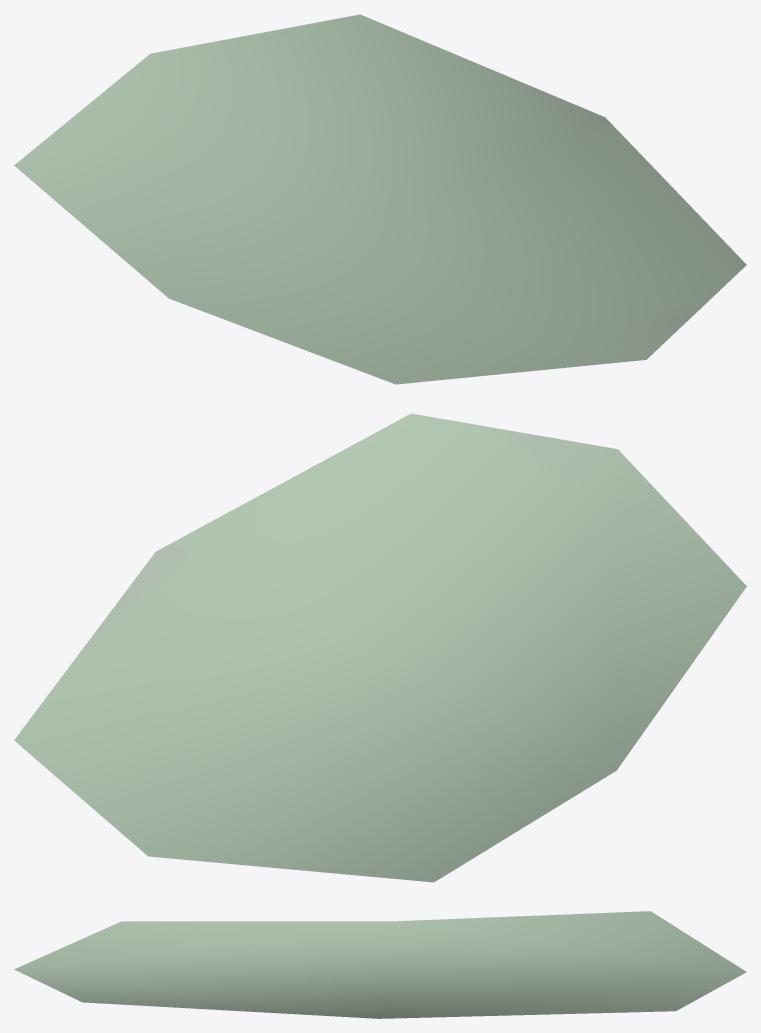
Rendered from TROLLHOLE02_HOLECAP82.fbx.
3 renders of one model, top to bottom at view 1: azimuth 30°, elevation 25°; view 2: azimuth 150°, elevation 25°; view 3: azimuth 270°, elevation 25°, orthographic. The views are drawn at different scales.
Visible parts, largest first — view 1: TROLLHOLE02_HOLECAP82; view 2: TROLLHOLE02_HOLECAP82; view 3: TROLLHOLE02_HOLECAP82.
Boxes of the visible parts, left/top/right/bottom form: TROLLHOLE02_HOLECAP82: left=14, top=14, right=746, bottom=384; TROLLHOLE02_HOLECAP82: left=14, top=413, right=746, bottom=882; TROLLHOLE02_HOLECAP82: left=14, top=911, right=746, bottom=1018.
Size of the model in its own units: 9705 by 1858 by 18146.
1 material, 1 textured.
